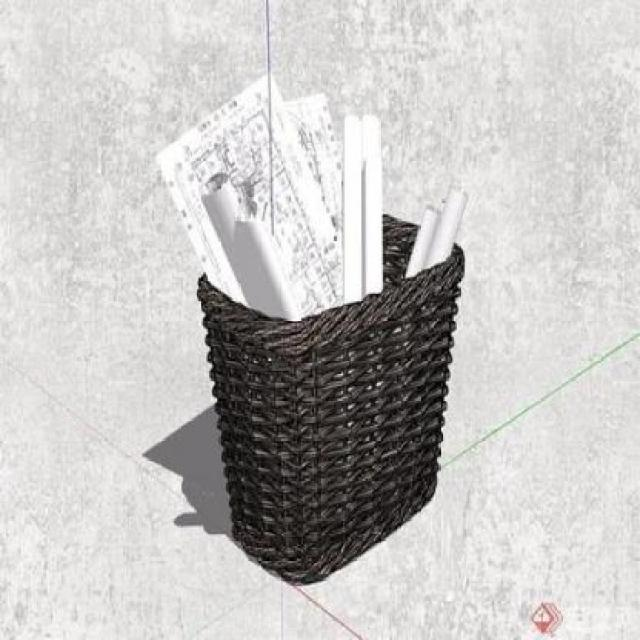dustbin: (192, 206, 470, 592)
